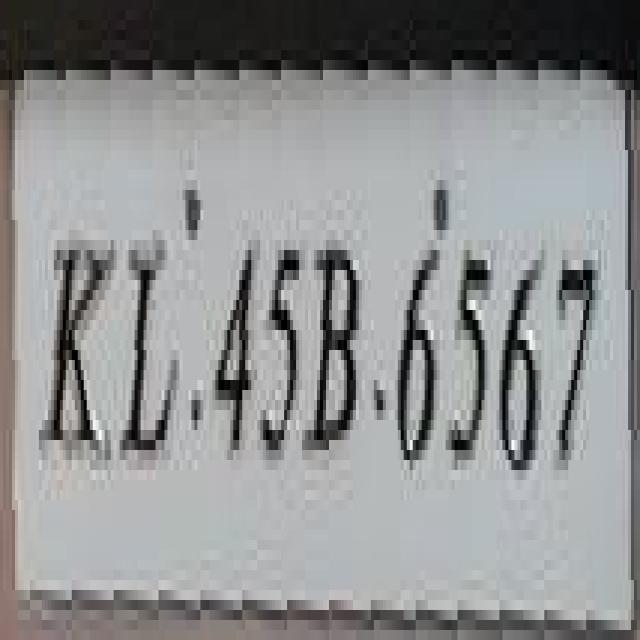license_plate: (6, 60, 640, 620)
